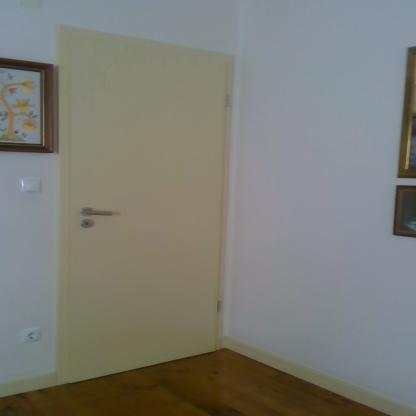door: (69, 34, 227, 384)
hinged: (223, 92, 230, 108), (216, 298, 221, 314)
lever: (82, 208, 116, 218)
